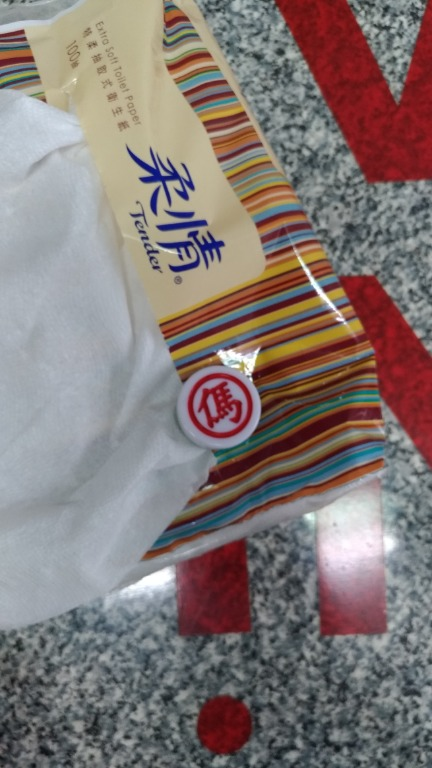r-knight: (167, 355, 274, 458)
